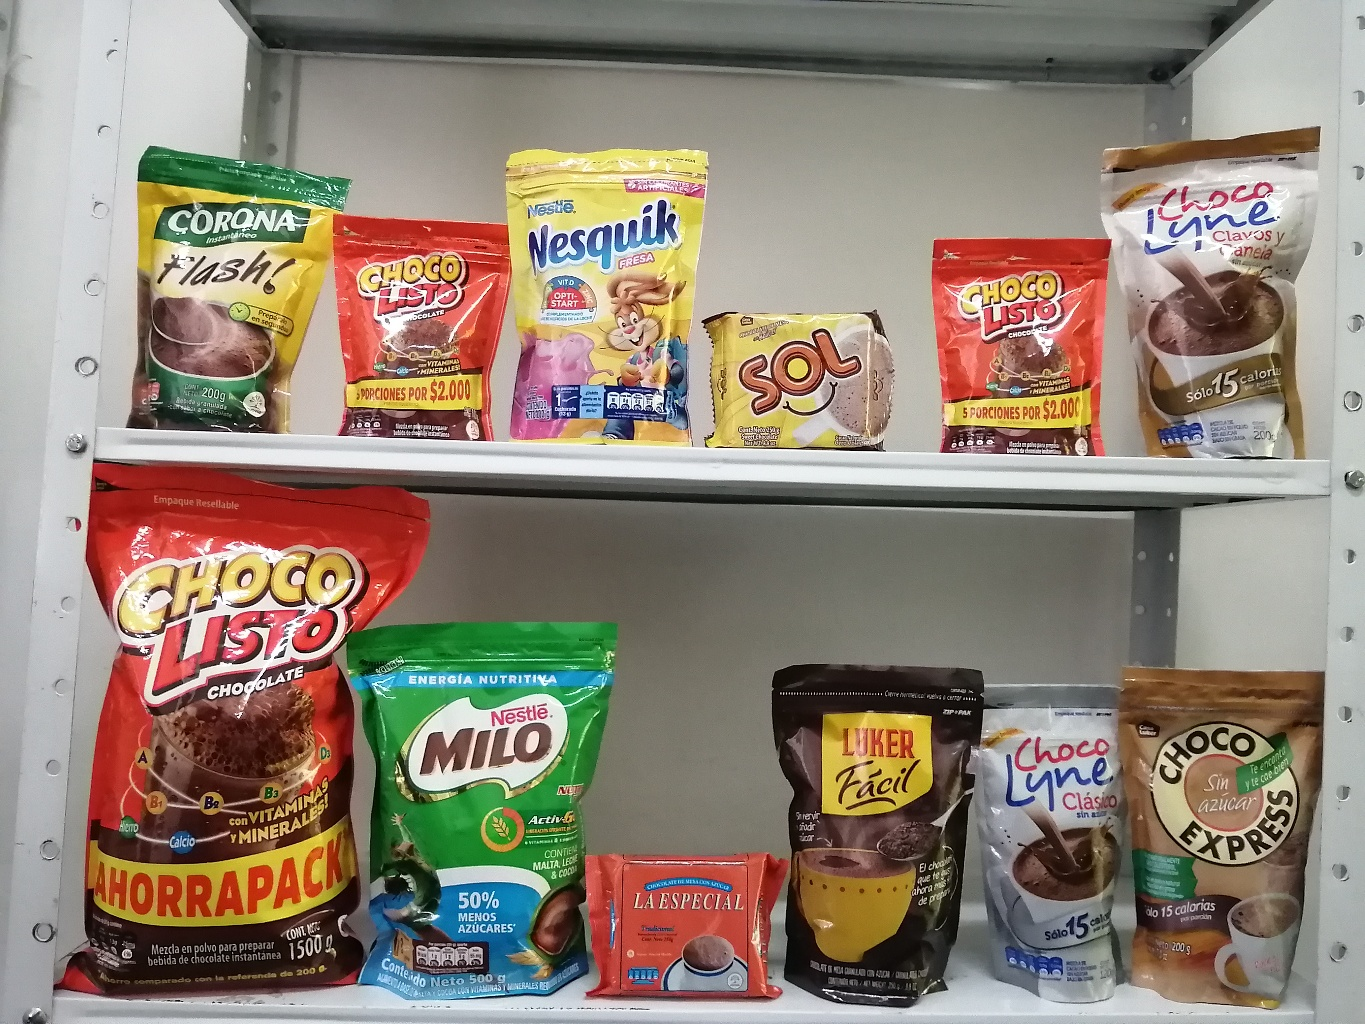COL0170103DYP1,500: (52, 438, 441, 1015)
COL0170205DYP50000: (319, 591, 645, 1013)
COL0170305DYP20000: (486, 130, 722, 450)
